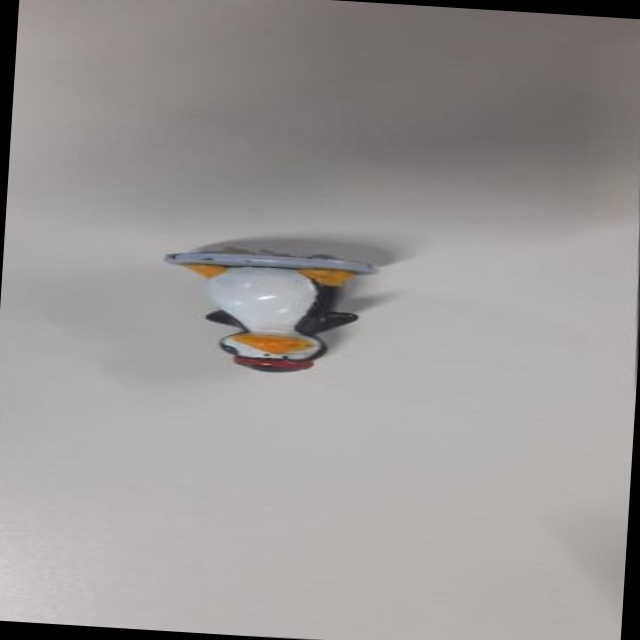Penguin: (131, 226, 411, 421)
